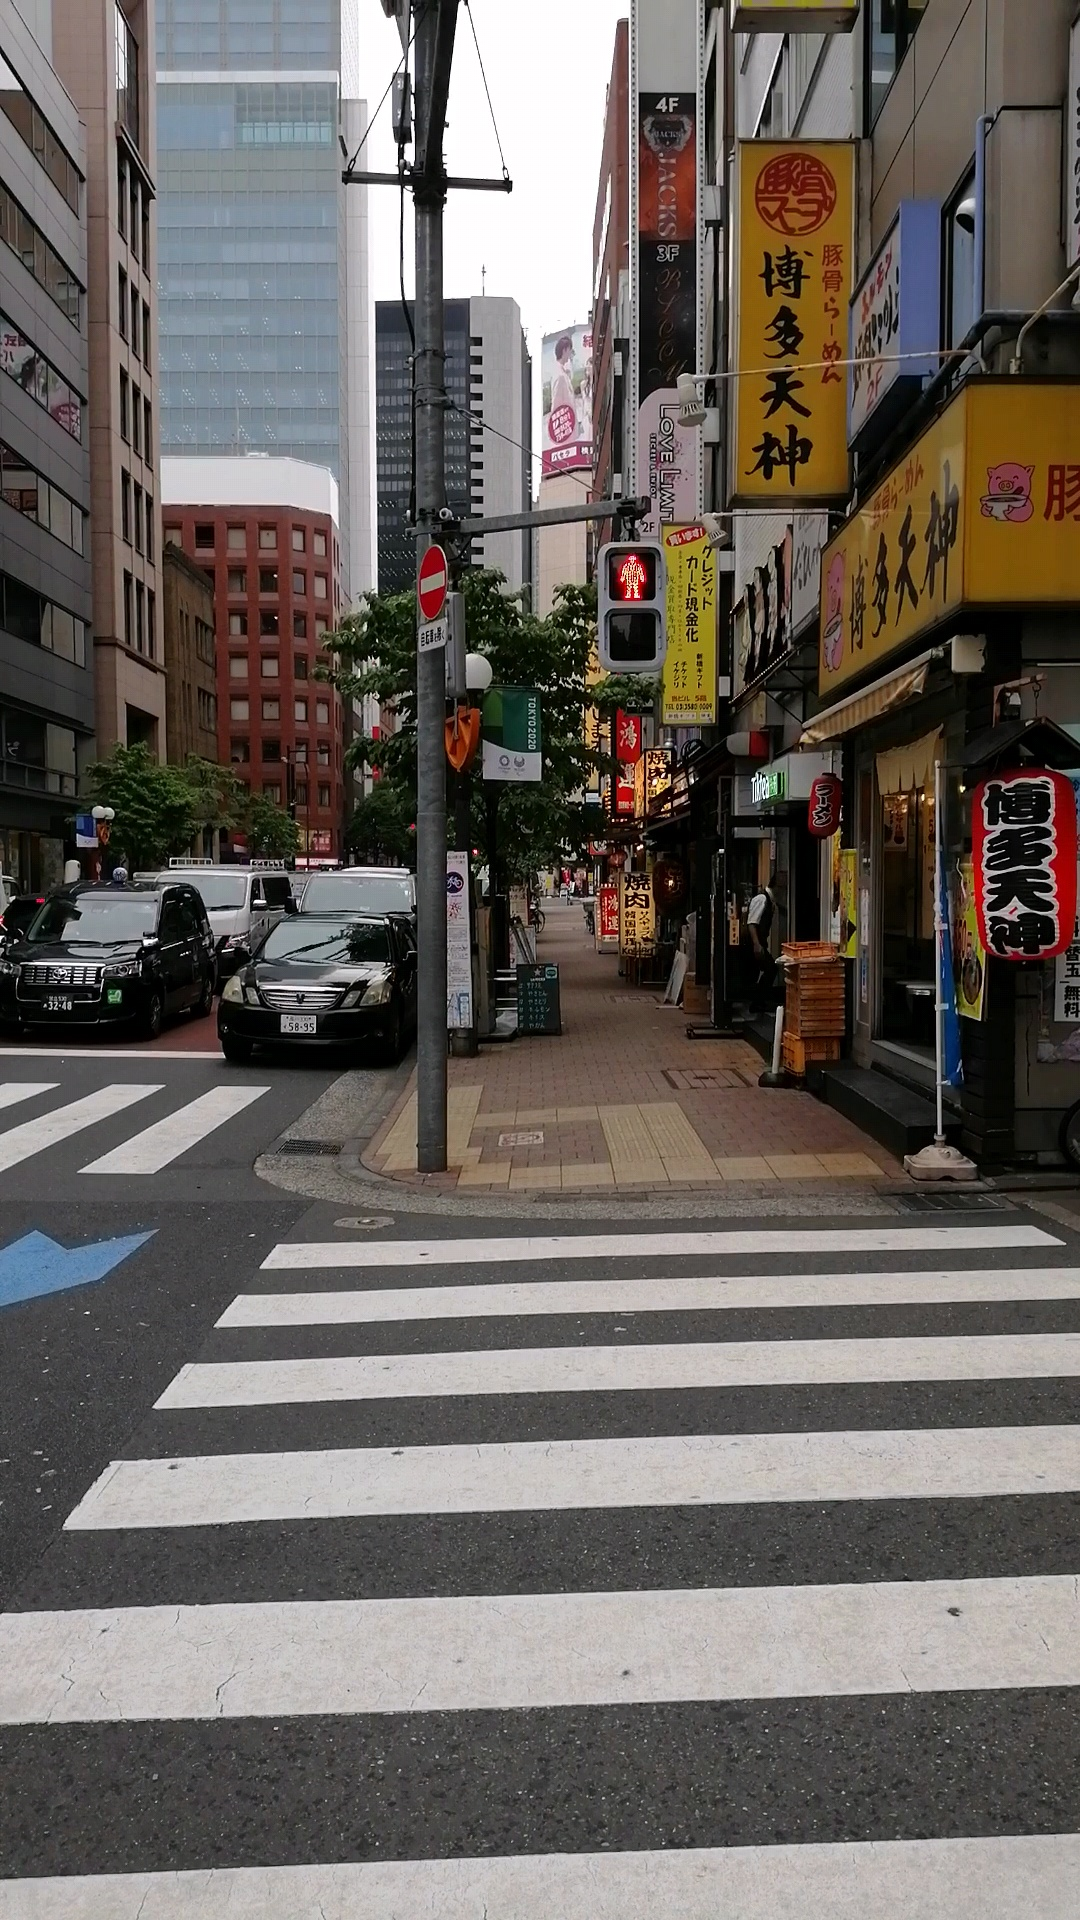red: (597, 538, 666, 673)
